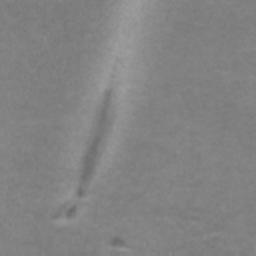Finishing roll printing: (64, 86, 116, 221), (110, 234, 129, 250)
